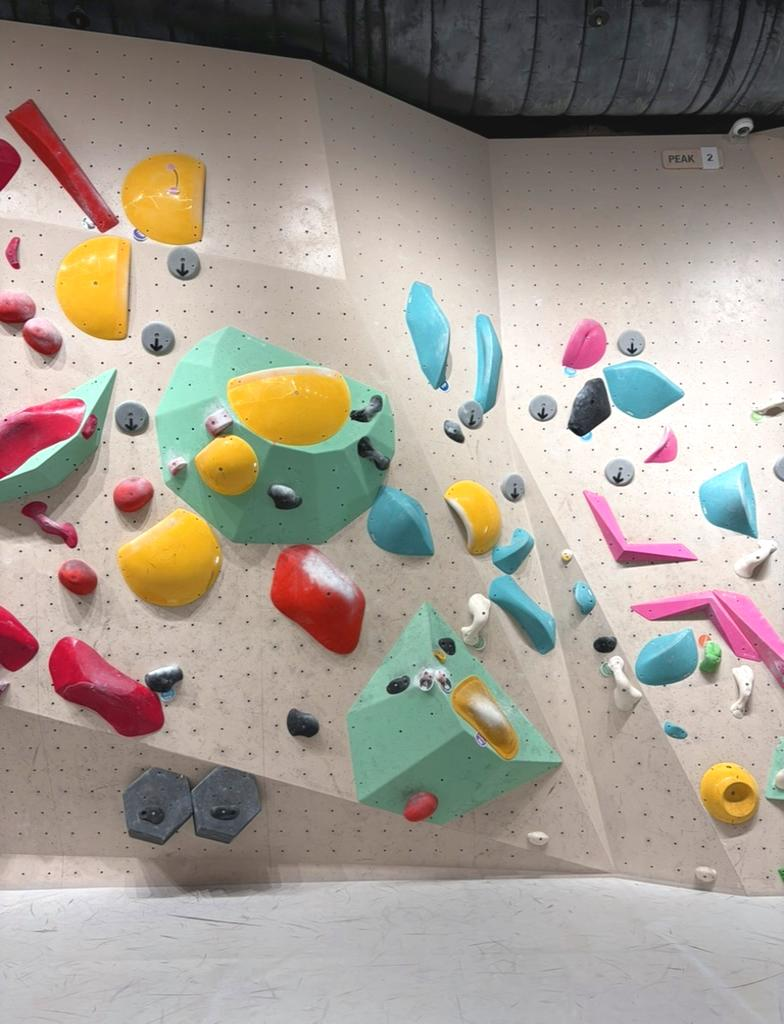crimp: (645, 426, 676, 462), (6, 237, 18, 268)
downhold: (141, 322, 174, 356), (115, 400, 148, 433), (168, 247, 199, 280), (604, 458, 634, 486), (529, 394, 556, 421), (618, 330, 644, 357), (458, 401, 483, 429), (501, 473, 524, 501)
jib: (560, 549, 573, 564)
jug: (602, 655, 641, 711), (461, 593, 491, 649), (730, 665, 753, 718), (145, 665, 182, 691), (359, 437, 389, 469), (351, 394, 382, 421), (267, 484, 300, 509), (699, 641, 721, 673)
ledge: (271, 545, 364, 653), (118, 510, 220, 605), (230, 368, 348, 445), (584, 491, 696, 563), (490, 577, 554, 652), (196, 435, 257, 494)
pinch: (6, 100, 116, 231), (205, 407, 233, 436), (167, 456, 187, 475)
sidepull: (124, 153, 204, 244), (57, 237, 128, 339), (405, 282, 448, 388), (368, 486, 433, 555), (699, 463, 756, 536), (445, 481, 500, 554), (474, 315, 501, 413), (568, 380, 609, 436), (561, 319, 606, 369)
sloper: (493, 528, 533, 574), (22, 317, 61, 355), (0, 290, 35, 322)
tape: (159, 688, 175, 702), (473, 732, 486, 748), (697, 633, 710, 647), (134, 229, 146, 239), (564, 367, 576, 375), (581, 432, 591, 441), (440, 381, 448, 391)
volume: (156, 327, 394, 543), (347, 602, 560, 822), (0, 371, 115, 501)
